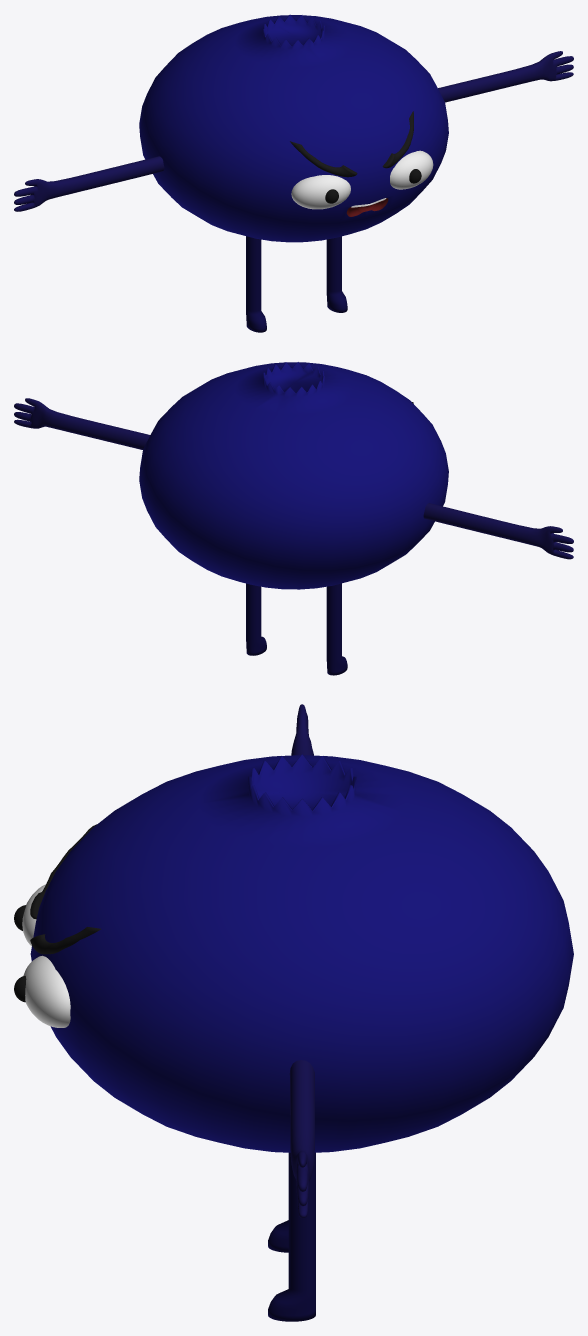
The model's file is Blueberry.fbx.
3 renders of one model, top to bottom at view 1: azimuth 30°, elevation 25°; view 2: azimuth 150°, elevation 25°; view 3: azimuth 270°, elevation 25°, orthographic. The views are drawn at different scales.
Visible parts, largest first — view 1: Blueberry; view 2: Blueberry; view 3: Blueberry.
Part boxes in pixels (x1,y1,x2,y2): Blueberry: (14, 14, 573, 332); Blueberry: (14, 362, 573, 675); Blueberry: (14, 704, 573, 1321).
Bounding box in the file's own units: 416 × 205 × 206.
